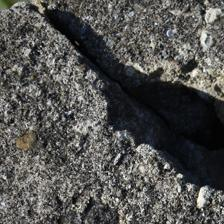Crack: (23, 7, 176, 142)
